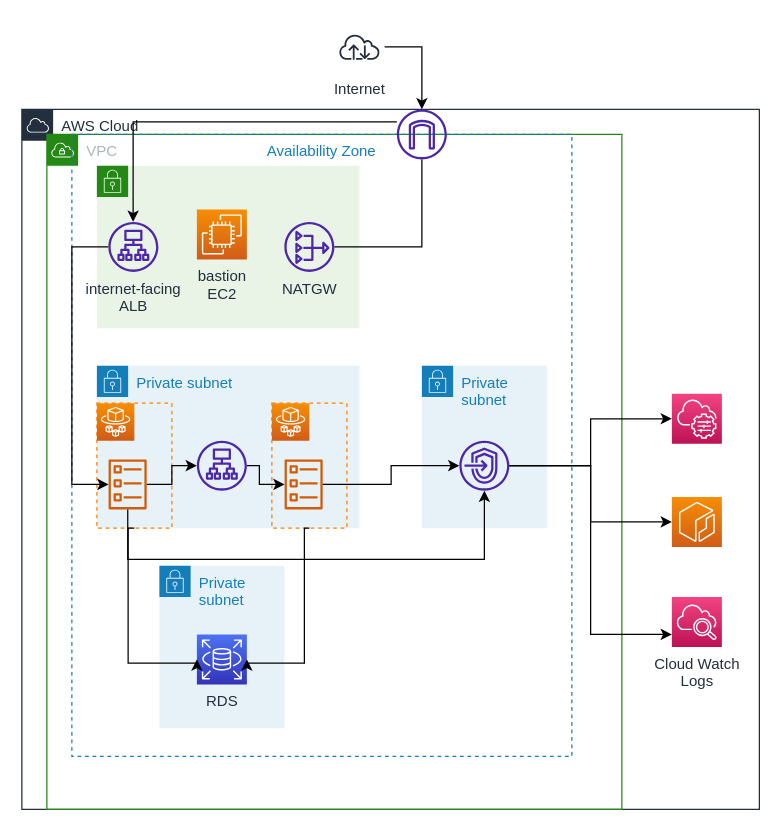
This 781x831 diagram has some shape labels left out. The shapes that lost their labels are listed below. From the top down, each one's box as (x1, y1, x2, y2) in pixels, then its label:
(396, 109, 446, 159): IGW
(96, 164, 359, 328): Public subnet
(671, 392, 722, 444): systems manager Parameter Store
(196, 440, 246, 490): internal ALB
(459, 440, 509, 490): VPC Endpoint (Interface)
(671, 496, 722, 547): ECR
